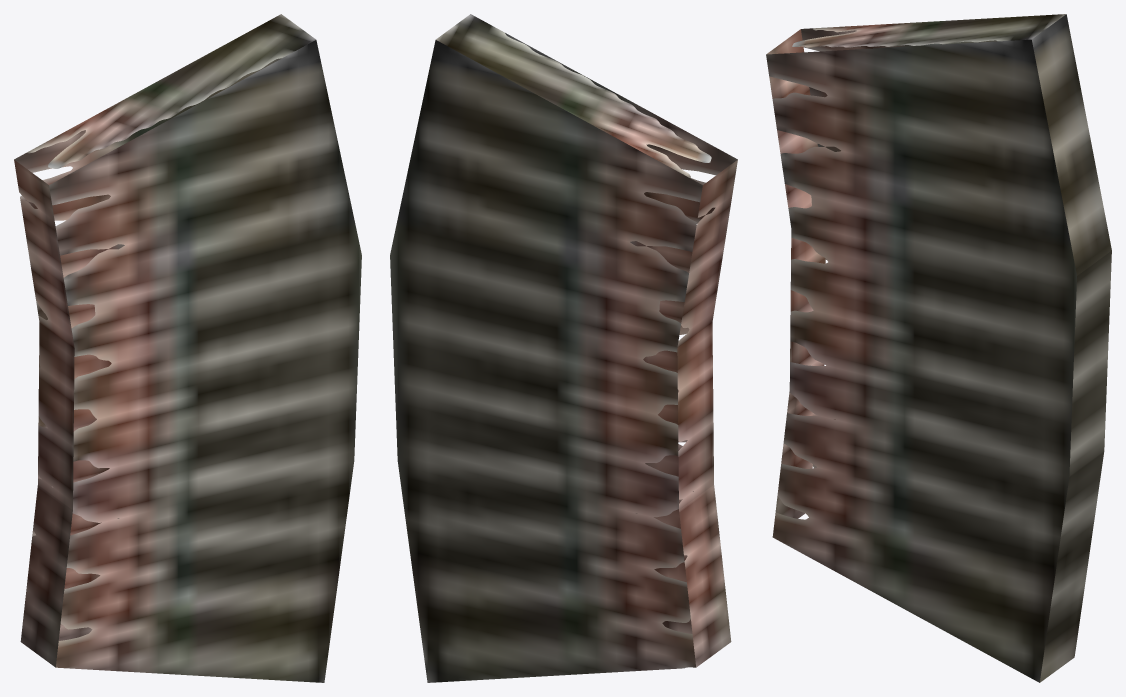
The model's file is clip.FBX.
3 views of the same model, side by side, from view 1: azimuth 30°, elevation 25°; view 2: azimuth 150°, elevation 25°; view 3: azimuth 330°, elevation 25° (orthographic).
Parts seen in each view (by area): view 1: AR_clip; view 2: AR_clip; view 3: AR_clip.
Part boxes in pixels (<box>): AR_clip: <box>14,14,361,682</box>; AR_clip: <box>390,14,737,682</box>; AR_clip: <box>766,14,1111,682</box>.
Bounding box in the file's own units: 8.46 × 16.68 × 1.64.
